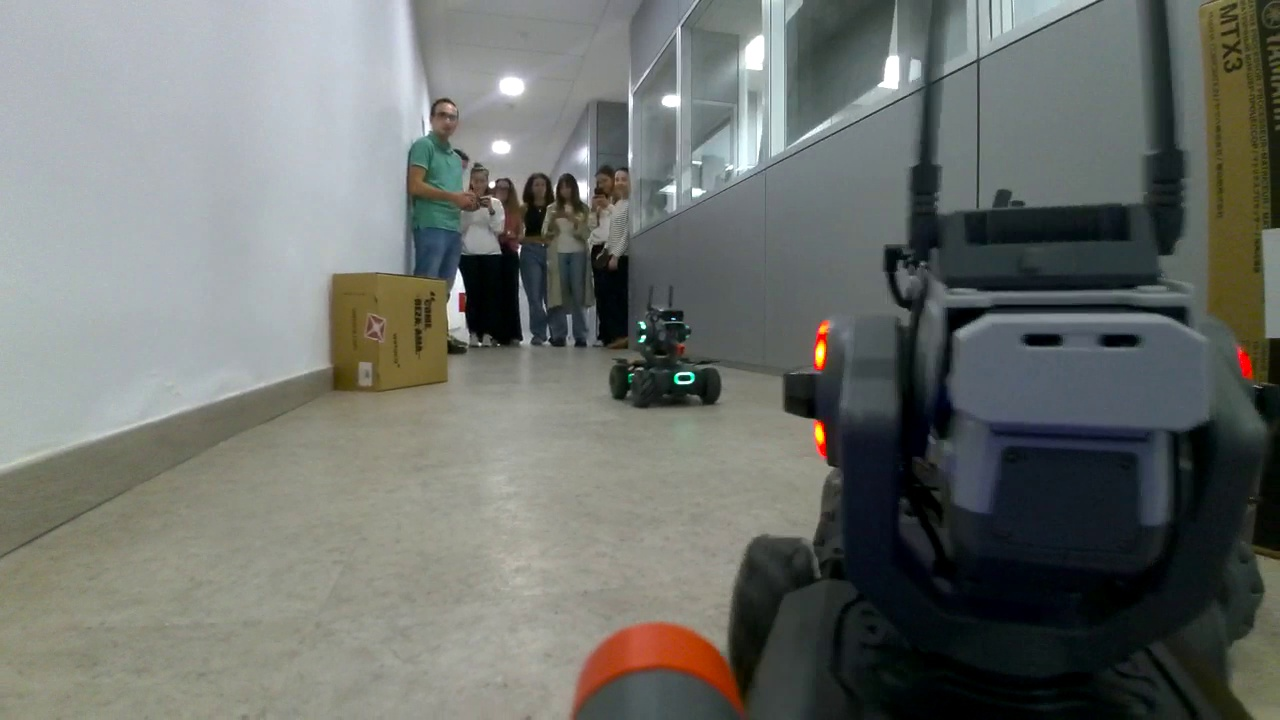robot: (737, 209, 1270, 716), (605, 303, 720, 413)
